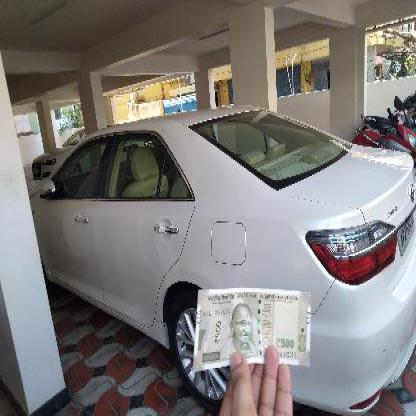New500Front: (196, 290, 307, 366)
